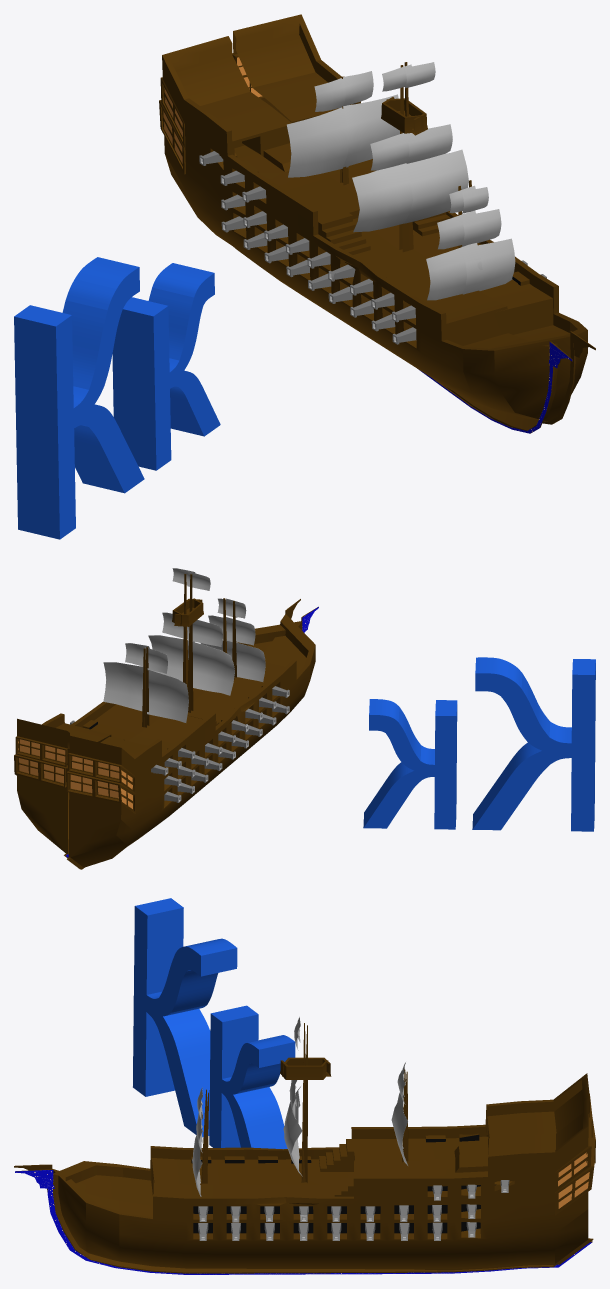
3 views of the same model, one above another, from view 1: azimuth 30°, elevation 25°; view 2: azimuth 150°, elevation 25°; view 3: azimuth 270°, elevation 25° (orthographic). The views are drawn at different scales.
Parts seen in each view (by area): view 1: Cube.001, Mesh_0.013, Cube; view 2: Cube.001, Mesh_0.013, Cube; view 3: Cube, Mesh_0.013, Cube.001.
Boxes of the visible parts, x1,y1,x2,y2 form: Cube.001: (159,36,595,424); Mesh_0.013: (14,257,220,539); Cube: (232,14,587,433); Cube.001: (66,571,315,869); Mesh_0.013: (363,657,595,831); Cube: (14,568,318,857); Cube: (14,1023,594,1270); Mesh_0.013: (133,898,295,1149); Cube.001: (15,1017,595,1274).
Size of the model in its own units: 49.5 by 25.27 by 53.6.
Materials: 3 (2 with a texture image).
